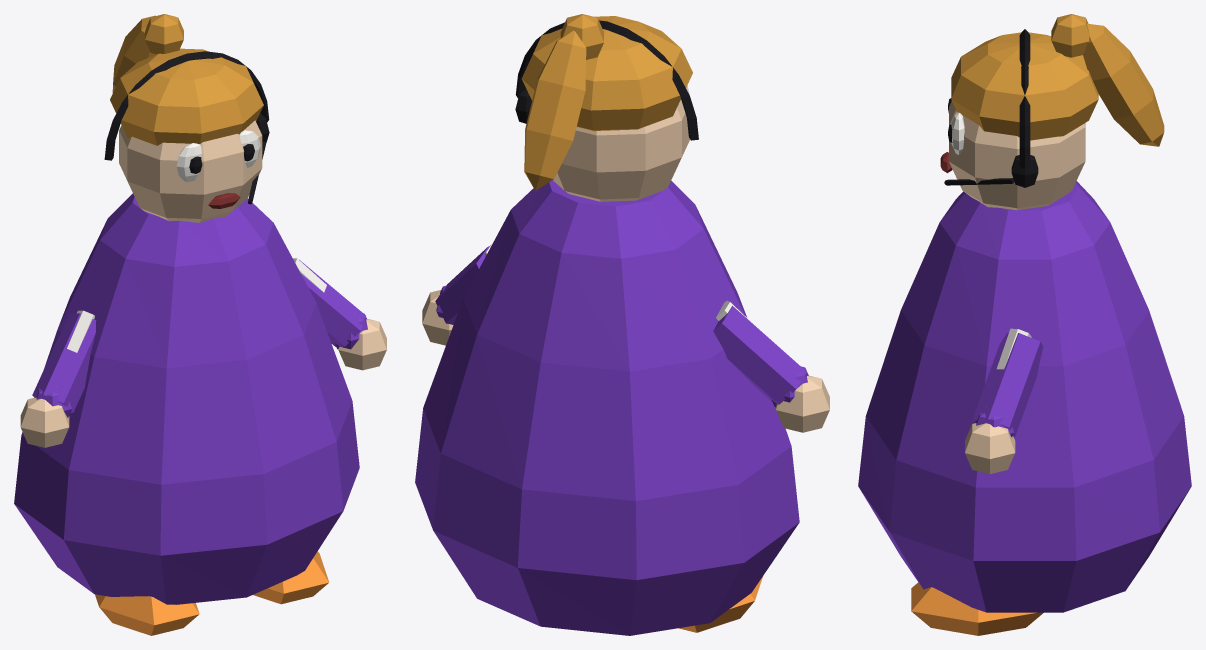
File: npc_lula.glb
3 renders of one model, left to right at view 1: azimuth 30°, elevation 25°; view 2: azimuth 150°, elevation 25°; view 3: azimuth 270°, elevation 25°, orthographic. The views are drawn at different scales.
Parts seen in each view (by area): view 1: body_lula_suit, hair_lula_hair, head_skin_crema, arms_lula_suit, legs_lula_shoes, arms_skin_crema, headset_black, face_white, arms_lula_stripe; view 2: body_lula_suit, hair_lula_hair, head_skin_crema, arms_lula_suit, arms_skin_crema, headset_black, legs_lula_shoes; view 3: body_lula_suit, hair_lula_hair, head_skin_crema, arms_lula_suit, legs_lula_shoes, headset_black, arms_skin_crema, face_white.
Part boxes in pixels (left/top/right/bottom): body_lula_suit: left=14, top=193, right=359, bottom=604; hair_lula_hair: left=110, top=14, right=263, bottom=145; head_skin_crema: left=119, top=120, right=262, bottom=222; arms_lula_suit: left=32, top=259, right=367, bottom=417; legs_lula_shoes: left=95, top=551, right=329, bottom=635; arms_skin_crema: left=20, top=319, right=386, bottom=447; headset_black: left=104, top=51, right=269, bottom=204; face_white: left=176, top=130, right=260, bottom=181; arms_lula_stripe: left=67, top=258, right=326, bottom=352; body_lula_suit: left=415, top=180, right=799, bottom=635; hair_lula_hair: left=521, top=14, right=692, bottom=190; head_skin_crema: left=553, top=99, right=689, bottom=201; arms_lula_suit: left=435, top=246, right=808, bottom=407; arms_skin_crema: left=422, top=290, right=829, bottom=432; headset_black: left=515, top=20, right=698, bottom=140; legs_lula_shoes: left=678, top=576, right=762, bottom=632; body_lula_suit: left=858, top=181, right=1191, bottom=612; hair_lula_hair: left=951, top=14, right=1164, bottom=146; head_skin_crema: left=949, top=101, right=1085, bottom=210; arms_lula_suit: left=972, top=333, right=1043, bottom=437; legs_lula_shoes: left=911, top=582, right=1043, bottom=635; headset_black: left=944, top=29, right=1038, bottom=187; arms_skin_crema: left=965, top=423, right=1015, bottom=474; face_white: left=951, top=112, right=964, bottom=154.
Bounding box in the file's own units: 1.13 × 1.65 × 0.86.
